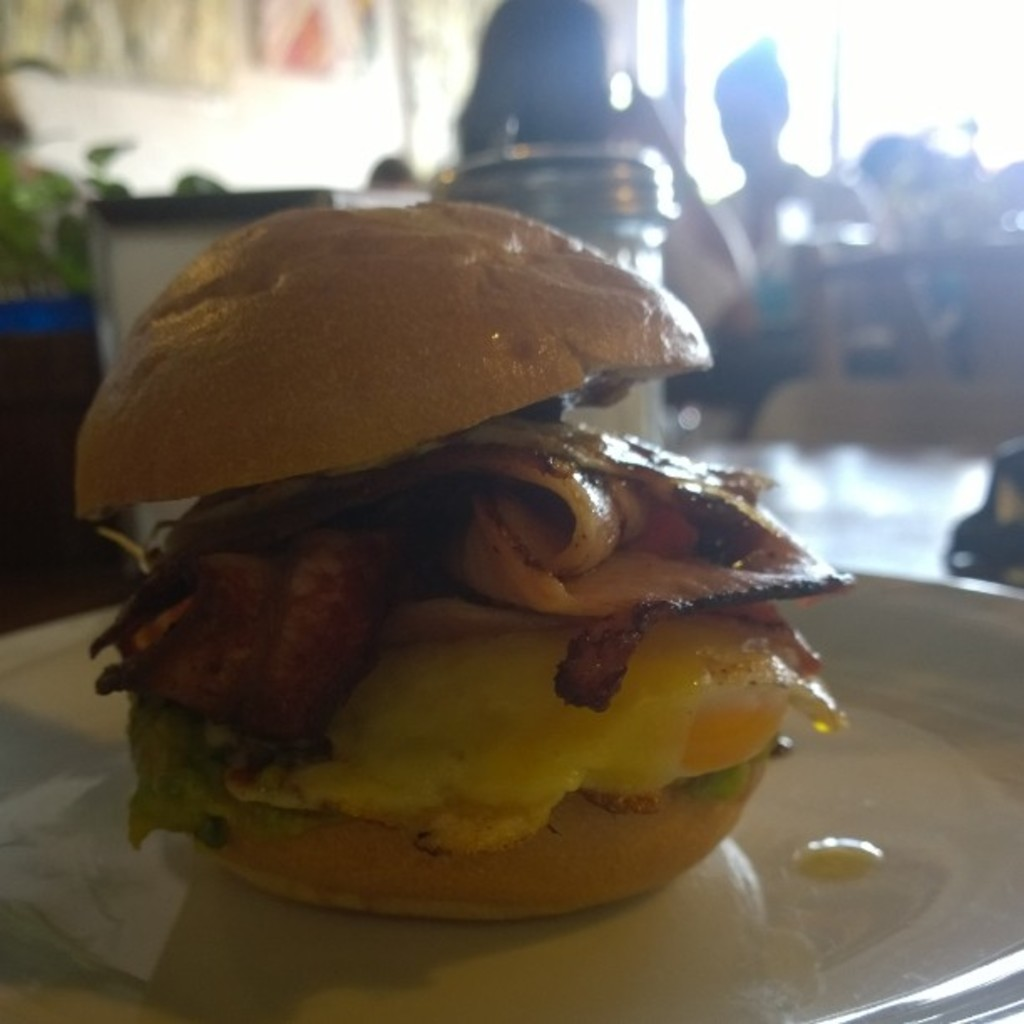Hamburger: (66, 200, 868, 928)
